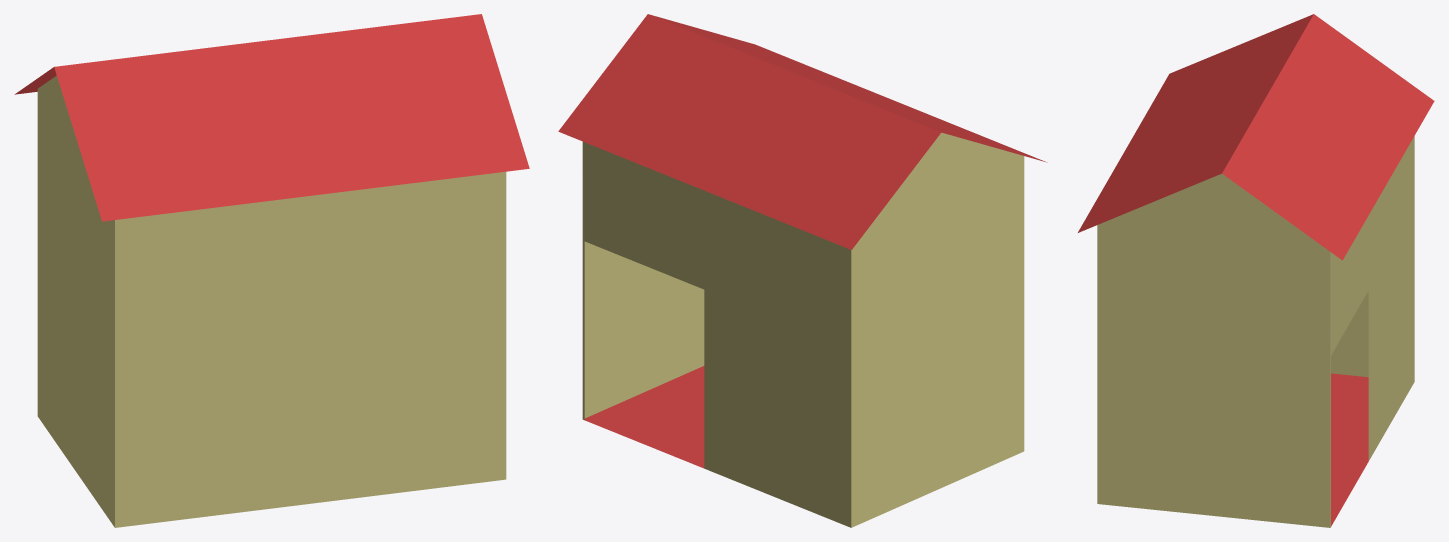
The picture shows the model from 3 angles, left to right: view 1: azimuth 30°, elevation 25°; view 2: azimuth 150°, elevation 25°; view 3: azimuth 270°, elevation 25°; orthographic projection. The views are drawn at different scales.
Bounding box in the file's own units: 13.37 × 10.8 × 11.69.
